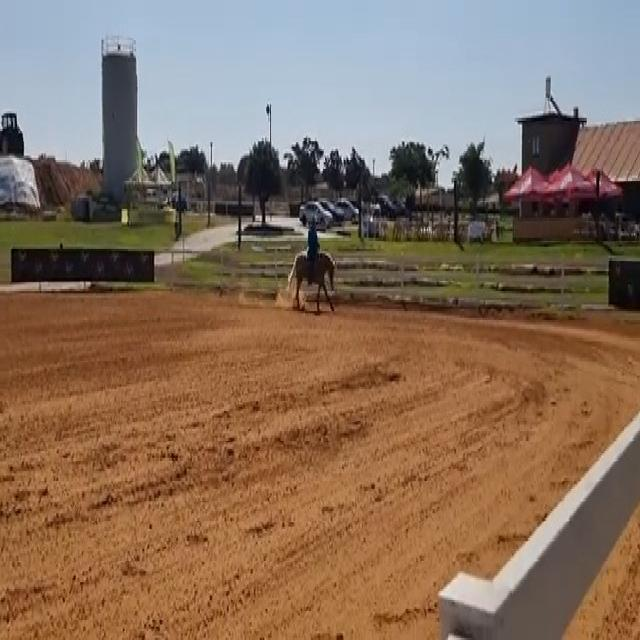horse: (285, 244, 338, 316)
